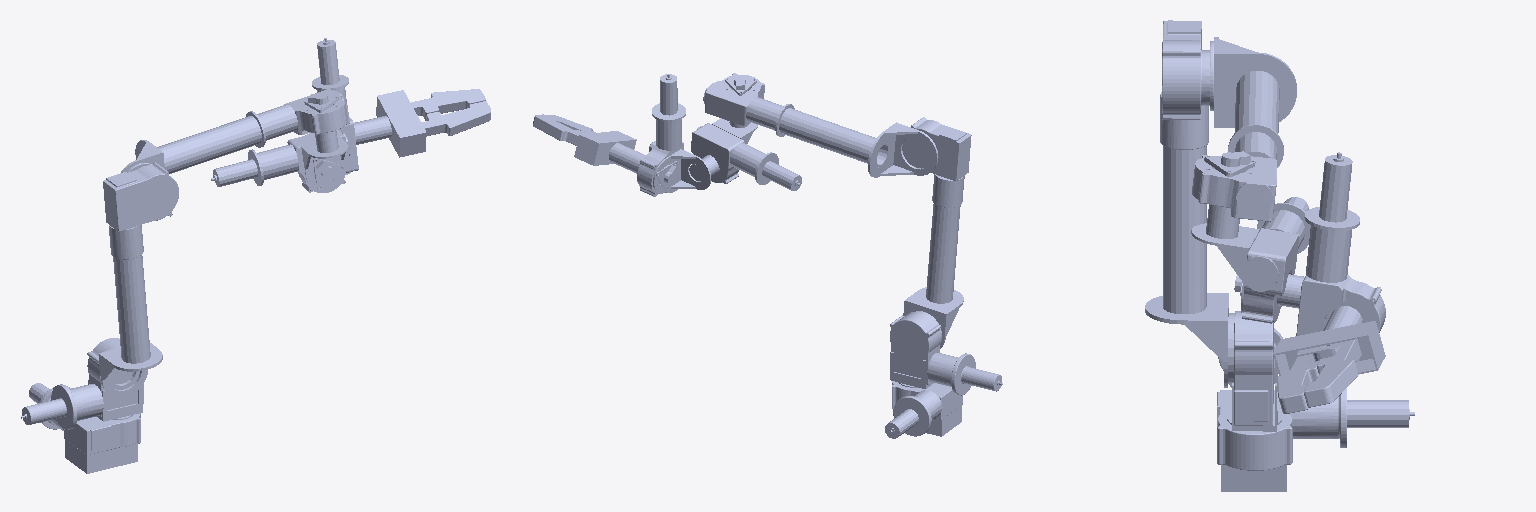
The robot description file, URDF, robot "rkdeneme":
<?xml version="1.0" encoding="utf-8"?>
<!-- This URDF was automatically created by SolidWorks to URDF Exporter! Originally created by [author] ([email redacted]) 
     Commit Version: 1.6.0-1-g15f4949  Build Version: 1.6.7594.29634
     For more information, please see http://wiki.ros.org/sw_urdf_exporter -->
<robot
  name="rkdeneme">

<!-- This dummy joint is used with the manipulators which are attached to a fixed point -->
<link name="world">
  </link>
  <joint 
    name="dummy_joint" 
    type="fixed" >
    <origin
      xyz="0 0 0"
      rpy="0 0 0" />
    <parent
      link="world" />
    <child
      link="base_link" />
  </joint>



  <link
    name="base_link">
    <inertial>
      <origin
        xyz="-0.0499999999999999 0.0380450000000001 0.0025"
        rpy="0 0 0" />
      <mass
        value="0.038045" />
      <inertia
        ixx="1.84349840637034E-05"
        ixy="1.27013013861485E-19"
        ixz="1.61029402544638E-22"
        iyy="3.17834270833332E-05"
        iyz="-1.11252483665931E-22"
        izz="5.00598903137033E-05" />
    </inertial>
    <visual>
      <origin
        xyz="0 0 0"
        rpy="0 0 0" />
      <geometry>
        <mesh
          filename="package://rkdeneme/meshes/base_link.STL" />
      </geometry>
      <material
        name="">
        <color
          rgba="0.792156862745098 0.819607843137255 0.933333333333333 1" />
      </material>
    </visual>
    <collision>
      <origin
        xyz="0 0 0"
        rpy="0 0 0" />
      <geometry>
        <mesh
          filename="package://rkdeneme/meshes/base_link.STL" />
      </geometry>
    </collision>
  </link>
  <link
    name="link_1">
    <inertial>
      <origin
        xyz="0.0474872847406768 0.0235575229479421 0.0143056749251272"
        rpy="0 0 0" />
      <mass
        value="0.892708427147432" />
      <inertia
        ixx="0.002475985313981"
        ixy="0.000457343853060466"
        ixz="5.2511712285032E-05"
        iyy="0.00127219657031323"
        iyz="-0.0002761162565724"
        izz="0.00294023830383873" />
    </inertial>
    <visual>
      <origin
        xyz="0 0 0"
        rpy="0 0 0" />
      <geometry>
        <mesh
          filename="package://rkdeneme/meshes/link_1.STL" />
      </geometry>
      <material
        name="">
        <color
          rgba="0.792156862745098 0.819607843137255 0.933333333333333 1" />
      </material>
    </visual>
    <collision>
      <origin
        xyz="0 0 0"
        rpy="0 0 0" />
      <geometry>
        <mesh
          filename="package://rkdeneme/meshes/link_1.STL" />
      </geometry>
    </collision>
  </link>
  <joint
    name="joint_1"
    type="fixed">
    <origin
      xyz="-0.100999593383655 0.0389999999999999 0.035"
      rpy="0 0 0" />
    <parent
      link="base_link" />
    <child
      link="link_1" />
    <axis
      xyz="0 0 0" />
    <limit
      lower="0"
      upper="0"
      effort="0"
      velocity="0"/>
  </joint>
  <link
    name="link_2">
    <inertial>
      <origin
        xyz="0.0306874425068561 0.00294524429004629 0.0577630240111384"
        rpy="0 0 0" />
      <mass
        value="0.706717646724978" />
      <inertia
        ixx="0.000830273904630186"
        ixy="-3.48651856918341E-05"
        ixz="0.000449009515128558"
        iyy="0.00249544726205211"
        iyz="8.26157395931233E-07"
        izz="0.00194089524730739" />
    </inertial>
    <visual>
      <origin
        xyz="0 0 0"
        rpy="0 0 0" />
      <geometry>
        <mesh
          filename="package://rkdeneme/meshes/link_2.STL" />
      </geometry>
      <material
        name="">
        <color
          rgba="0.792156862745098 0.819607843137255 0.933333333333333 1" />
      </material>
    </visual>
    <collision>
      <origin
        xyz="0 0 0"
        rpy="0 0 0" />
      <geometry>
        <mesh
          filename="package://rkdeneme/meshes/link_2.STL" />
      </geometry>
    </collision>
  </link>
  <joint
    name="joint_2"
    type="revolute">
    <origin
      xyz="0.079 0 0.0419999999999996"
      rpy="0 0 3.12345472637197" />
    <parent
      link="link_1" />
    <child
      link="link_2" />
    <axis
      xyz="0 0 1" />
    <limit
      lower="-3.14"
      upper="3.14"
      effort="200"
      velocity="20"/>
  </joint>
  <link
    name="link_3">
    <inertial>
      <origin
        xyz="0.0364314927788938 -0.0395728049052746 0.274956127801036"
        rpy="0 0 0" />
      <mass
        value="0.857612897125528" />
      <inertia
        ixx="0.00235298914404001"
        ixy="-0.000221281181505715"
        ixz="-0.000381896634805383"
        iyy="0.00270696667909465"
        iyz="-0.000144962336324164"
        izz="0.00100324235969399" />
    </inertial>
    <visual>
      <origin
        xyz="0 0 0"
        rpy="0 0 0" />
      <geometry>
        <mesh
          filename="package://rkdeneme/meshes/link_3.STL" />
      </geometry>
      <material
        name="">
        <color
          rgba="0.792156862745098 0.819607843137255 0.933333333333333 1" />
      </material>
    </visual>
    <collision>
      <origin
        xyz="0 0 0"
        rpy="0 0 0" />
      <geometry>
        <mesh
          filename="package://rkdeneme/meshes/link_3.STL" />
      </geometry>
    </collision>
  </link>
  <joint
    name="joint_3"
    type="revolute">
    <origin
      xyz="0.00070000000000002 0.0276520837518357 0.092000406616345"
      rpy="0.0315369683570161 -0.0788800661010763 2.76077877392938" />
    <parent
      link="link_2" />
    <child
      link="link_3" />
    <axis
      xyz="0.370520470555236 -0.92882430033862 0" />
    <limit
      lower="-3.14"
      upper="3.14"
      effort="200"
      velocity="20"/>
  </joint>
  <link
    name="link_4">
    <inertial>
      <origin
        xyz="0.00398113959010205 -0.0249285275788731 -0.245131235086911"
        rpy="0 0 0" />
      <mass
        value="0.558171660320752" />
      <inertia
        ixx="0.00184421074201008"
        ixy="1.70205388519674E-05"
        ixz="2.00611490077262E-05"
        iyy="0.00183143013583141"
        iyz="5.28369925538232E-05"
        izz="0.000350951715511441" />
    </inertial>
    <visual>
      <origin
        xyz="0 0 0"
        rpy="0 0 0" />
      <geometry>
        <mesh
          filename="package://rkdeneme/meshes/link_4.STL" />
      </geometry>
      <material
        name="">
        <color
          rgba="0.792156862745098 0.819607843137255 0.933333333333333 1" />
      </material>
    </visual>
    <collision>
      <origin
        xyz="0 0 0"
        rpy="0 0 0" />
      <geometry>
        <mesh
          filename="package://rkdeneme/meshes/link_4.STL" />
      </geometry>
    </collision>
  </link>
  <joint
    name="joint_4"
    type="revolute">
    <origin
      xyz="0.0484527745766341 0.0194104117467899 0.348696170399897"
      rpy="-3.14159265358956 1.55982332251752 0.381027606369495" />
    <parent
      link="link_3" />
    <child
      link="link_4" />
    <axis
      xyz="0 1 0" />
    <limit
      lower="-3.14"
      upper="3.14"
      effort="200"
      velocity="20"/>
  </joint>
  <link
    name="link_5">
    <inertial>
      <origin
        xyz="0.0505507863386959 -0.0484264453687657 0.0619152303913047"
        rpy="0 0 0" />
      <mass
        value="0.394030656356264" />
      <inertia
        ixx="0.000208112630448649"
        ixy="-7.79909983976751E-05"
        ixz="3.58694692726464E-05"
        iyy="0.00124765841844533"
        iyz="-6.8623835693657E-06"
        izz="0.00128723148220654" />
    </inertial>
    <visual>
      <origin
        xyz="0 0 0"
        rpy="0 0 0" />
      <geometry>
        <mesh
          filename="package://rkdeneme/meshes/link_5.STL" />
      </geometry>
      <material
        name="">
        <color
          rgba="0.792156862745098 0.819607843137255 0.933333333333333 1" />
      </material>
    </visual>
    <collision>
      <origin
        xyz="0 0 0"
        rpy="0 0 0" />
      <geometry>
        <mesh
          filename="package://rkdeneme/meshes/link_5.STL" />
      </geometry>
    </collision>
  </link>
  <joint
    name="joint_5"
    type="revolute">
    <origin
      xyz="0.0420369065424729 0.00398838875285276 -0.3685"
      rpy="3.14159265358976 -1.40587663943545 -1.46495180953747" />
    <parent
      link="link_4" />
    <child
      link="link_5" />
    <axis
      xyz="0 1 0" />
    <limit
      lower="-3.14"
      upper="3.14"
      effort="200"
      velocity="20"/>
  </joint>
  <link
    name="link_6">
    <inertial>
      <origin
        xyz="0.0241945311920965 -0.0595889965707277 0.0151866853021563"
        rpy="0 0 0" />
      <mass
        value="0.332748432876594" />
      <inertia
        ixx="0.00122583145081026"
        ixy="7.98432474698867E-05"
        ixz="-8.8055141153864E-06"
        iyy="0.000184665148411829"
        iyz="-2.87293763528741E-05"
        izz="0.00126959049387581" />
    </inertial>
    <visual>
      <origin
        xyz="0 0 0"
        rpy="0 0 0" />
      <geometry>
        <mesh
          filename="package://rkdeneme/meshes/link_6.STL" />
      </geometry>
      <material
        name="">
        <color
          rgba="0.792156862745098 0.819607843137255 0.933333333333333 1" />
      </material>
    </visual>
    <collision>
      <origin
        xyz="0 0 0"
        rpy="0 0 0" />
      <geometry>
        <mesh
          filename="package://rkdeneme/meshes/link_6.STL" />
      </geometry>
    </collision>
  </link>
  <joint
    name="joint_6"
    type="revolute">
    <origin
      xyz="-0.0379700119679344 -0.0709236621485423 0.163500000000019"
      rpy="3.10186199651076 1.5707963267949 0" />
    <parent
      link="link_5" />
    <child
      link="link_6" />
    <axis
      xyz="0.999977391572284 0.0010172102901967 0.00664692617054545" />
    <limit
      lower="-3.14"
      upper="3.14"
      effort="200"
      velocity="20"/>
  </joint>
  <link
    name="link_7">
    <inertial>
      <origin
        xyz="0.000727472717339028 0.00354211596177539 0.0653850779268292"
        rpy="0 0 0" />
      <mass
        value="0.178129274111857" />
      <inertia
        ixx="0.000338925862506268"
        ixy="6.47280524761131E-08"
        ixz="2.65390539492845E-07"
        iyy="0.000277438194361529"
        iyz="-1.06778735336586E-06"
        izz="0.000110830834649095" />
    </inertial>
    <visual>
      <origin
        xyz="0 0 0"
        rpy="0 0 0" />
      <geometry>
        <mesh
          filename="package://rkdeneme/meshes/link_7.STL" />
      </geometry>
      <material
        name="">
        <color
          rgba="0.792156862745098 0.819607843137255 0.933333333333333 1" />
      </material>
    </visual>
    <collision>
      <origin
        xyz="0 0 0"
        rpy="0 0 0" />
      <geometry>
        <mesh
          filename="package://rkdeneme/meshes/link_7.STL" />
      </geometry>
    </collision>
  </link>
  <joint
    name="joint_7"
    type="revolute">
    <origin
      xyz="0 0 0.0327056138567764"
      rpy="0 0 1.94122221355038" />
    <parent
      link="link_6" />
    <child
      link="link_7" />
    <axis
      xyz="0 0 1" />
    <limit
      lower="-3.14"
      upper="3.14"
      effort="200"
      velocity="20"/>
  </joint>
  <link
    name="gripper_right_link">
    <inertial>
      <origin
        xyz="0.021812670080032 0.0780665544139116 -0.00047250990388914"
        rpy="0 0 0" />
      <mass
        value="0.090636446090277" />
      <inertia
        ixx="0.000181842022510951"
        ixy="7.23164254795497E-06"
        ixz="1.47127414897989E-07"
        iyy="1.2175093024132E-05"
        iyz="1.6352173740677E-06"
        izz="0.000187667490035478" />
    </inertial>
    <visual>
      <origin
        xyz="0 0 0"
        rpy="0 0 0" />
      <geometry>
        <mesh
          filename="package://rkdeneme/meshes/gripper_right_link.STL" />
      </geometry>
      <material
        name="">
        <color
          rgba="0.792156862745098 0.819607843137255 0.933333333333333 1" />
      </material>
    </visual>
    <collision>
      <origin
        xyz="0 0 0"
        rpy="0 0 0" />
      <geometry>
        <mesh
          filename="package://rkdeneme/meshes/gripper_right_link.STL" />
      </geometry>
    </collision>
  </link>
  <joint
    name="gripper_right_joint"
    type="revolute">
    <origin
      xyz="0.00020482172354952 0.0038437705383681 0.112525889750691"
      rpy="1.5689414613659 -0.00641028568971245 -1.56977118260045" />
    <parent
      link="link_7" />
    <child
      link="gripper_right_link" />
    <axis
      xyz="0 0 -1" />
    <limit
      lower="0"
      upper="0.45"
      effort="200"
      velocity="20" />
  </joint>
  <link
    name="gripper_left_link">
    <inertial>
      <origin
        xyz="0.021812666088715 0.0780665362185319 -0.001065283190336"
        rpy="0 0 0" />
      <mass
        value="0.0906365017830261" />
      <inertia
        ixx="0.000181842075679543"
        ixy="7.23163176080515E-06"
        ixz="1.47129764392357E-07"
        iyy="1.21750981860815E-05"
        iyz="1.63522887738205E-06"
        izz="0.000187667542622946" />
    </inertial>
    <visual>
      <origin
        xyz="0 0 0"
        rpy="0 0 0" />
      <geometry>
        <mesh
          filename="package://rkdeneme/meshes/gripper_left_link.STL" />
      </geometry>
      <material
        name="">
        <color
          rgba="0.792156862745098 0.819607843137255 0.933333333333333 1" />
      </material>
    </visual>
    <collision>
      <origin
        xyz="0 0 0"
        rpy="0 0 0" />
      <geometry>
        <mesh
          filename="package://rkdeneme/meshes/gripper_left_link.STL" />
      </geometry>
    </collision>
  </link>
  <joint
    name="gripper_left_joint"
    type="revolute">
    <origin
      xyz="0.00020482172354952 0.0038437705383681 0.112525889750691"
      rpy="1.57265119222389 0.00641028568971246 1.57182147098935" />
    <parent
      link="link_7" />
    <child
      link="gripper_left_link" />
    <axis
      xyz="0 0 -1" />
    <limit
      lower="0"
      upper="0.45"
      effort="200"
      velocity="20" />
  </joint>


<!-- gazebo plugin -->

<gazebo>
 <plugin name="gazebo_ros_control" filename="libgazebo_ros_control.so">
  <robotSimType>gazebo_ros_control/DefaultRobotHWSim</robotSimType>
  <legacyModeNS>true</legacyModeNS> 
  <controlPeriod>0.001</controlPeriod>
  <robotNamespace></robotNamespace>
    </plugin>
</gazebo>


<!-- transmissions -->

<transmission name="tran2">
    <type>transmission_interface/SimpleTransmission</type>
    <joint name="joint_2">
      <hardwareInterface>hardware_interface/PositionJointInterface</hardwareInterface>
    </joint>
    <actuator name="motor2">
      <hardwareInterface>hardware_interface/PositionJointInterface</hardwareInterface>
      <mechanicalReduction>1</mechanicalReduction>
    </actuator>
</transmission>

<transmission name="tran3">
    <type>transmission_interface/SimpleTransmission</type>
    <joint name="joint_3">
      <hardwareInterface>hardware_interface/PositionJointInterface</hardwareInterface>
    </joint>
    <actuator name="motor3">
      <hardwareInterface>hardware_interface/PositionJointInterface</hardwareInterface>
      <mechanicalReduction>1</mechanicalReduction>
    </actuator>
</transmission>

<transmission name="tran4">
    <type>transmission_interface/SimpleTransmission</type>
    <joint name="joint_4">
      <hardwareInterface>hardware_interface/PositionJointInterface</hardwareInterface>
    </joint>
    <actuator name="motor4">
      <hardwareInterface>hardware_interface/PositionJointInterface</hardwareInterface>
      <mechanicalReduction>1</mechanicalReduction>
    </actuator>
</transmission>

<transmission name="tran5">
    <type>transmission_interface/SimpleTransmission</type>
    <joint name="joint_5">
      <hardwareInterface>hardware_interface/PositionJointInterface</hardwareInterface>
    </joint>
    <actuator name="motor5">
      <hardwareInterface>hardware_interface/PositionJointInterface</hardwareInterface>
      <mechanicalReduction>1</mechanicalReduction>
    </actuator>
</transmission>

<transmission name="tran6">
    <type>transmission_interface/SimpleTransmission</type>
    <joint name="joint_6">
      <hardwareInterface>hardware_interface/PositionJointInterface</hardwareInterface>
    </joint>
    <actuator name="motor6">
      <hardwareInterface>hardware_interface/PositionJointInterface</hardwareInterface>
      <mechanicalReduction>1</mechanicalReduction>
    </actuator>
</transmission>

<transmission name="tran7">
    <type>transmission_interface/SimpleTransmission</type>
    <joint name="joint_7">
      <hardwareInterface>hardware_interface/PositionJointInterface</hardwareInterface>
    </joint>
    <actuator name="motor7">
      <hardwareInterface>hardware_interface/PositionJointInterface</hardwareInterface>
      <mechanicalReduction>1</mechanicalReduction>
    </actuator>
</transmission>

<transmission name="tran_gripper_right">
    <type>transmission_interface/SimpleTransmission</type>
    <joint name="gripper_right_joint">
      <hardwareInterface>hardware_interface/PositionJointInterface</hardwareInterface>
    </joint>
    <actuator name="motor_gripper_right">
      <hardwareInterface>hardware_interface/PositionJointInterface</hardwareInterface>
      <mechanicalReduction>1</mechanicalReduction>
    </actuator>
</transmission>

<transmission name="tran_gripper_left">
    <type>transmission_interface/SimpleTransmission</type>
    <joint name="gripper_left_joint">
      <hardwareInterface>hardware_interface/PositionJointInterface</hardwareInterface>
    </joint>
    <actuator name="motor_gripper_left">
      <hardwareInterface>hardware_interface/PositionJointInterface</hardwareInterface>
      <mechanicalReduction>1</mechanicalReduction>
    </actuator>
</transmission>

</robot>

--- Facts derived from the render (not from the file) ---
Views: 3 orthographic renders of the robot side by side, from view 1: azimuth 30°, elevation 25°; view 2: azimuth 150°, elevation 25°; view 3: azimuth 270°, elevation 25°.
Model rkdeneme with 11 links and 10 joints (8 revolute, 2 fixed), rooted at world, posed all joints at 0.
Visible links, largest first — view 1: link_3, link_4, link_5, link_2, link_1, link_7, link_6, gripper_right_link, gripper_left_link; view 2: link_4, link_3, link_2, link_6, link_5, link_1, link_7, gripper_left_link; view 3: link_3, link_4, link_1, link_6, link_5, link_2, link_7, gripper_left_link, gripper_right_link.
Boxes of the visible links, bbox=[...] form: link_3: bbox=[99, 162, 178, 397]; link_4: bbox=[121, 89, 349, 173]; link_5: bbox=[211, 130, 349, 192]; link_2: bbox=[21, 338, 143, 429]; link_1: bbox=[29, 383, 140, 470]; link_7: bbox=[354, 90, 426, 157]; link_6: bbox=[307, 38, 358, 174]; gripper_right_link: bbox=[421, 101, 490, 135]; gripper_left_link: bbox=[411, 89, 485, 120]; link_4: bbox=[703, 73, 938, 177]; link_3: bbox=[902, 117, 971, 348]; link_2: bbox=[890, 311, 1002, 395]; link_6: bbox=[637, 74, 710, 196]; link_5: bbox=[689, 118, 801, 190]; link_1: bbox=[885, 381, 962, 438]; link_7: bbox=[574, 131, 645, 173]; gripper_left_link: bbox=[533, 114, 586, 145]; link_3: bbox=[1145, 20, 1228, 387]; link_4: bbox=[1192, 37, 1296, 238]; link_1: bbox=[1217, 388, 1414, 487]; link_6: bbox=[1296, 152, 1385, 335]; link_5: bbox=[1191, 197, 1310, 323]; link_2: bbox=[1218, 311, 1282, 431]; link_7: bbox=[1273, 302, 1385, 375]; gripper_left_link: bbox=[1304, 339, 1361, 407]; gripper_right_link: bbox=[1278, 344, 1332, 413].
Size in the robot's own frame: 0.9483 by 0.3068 by 0.6324 metres.
10 mesh visuals loaded from 10 distinct referenced files (10 binary STL).
